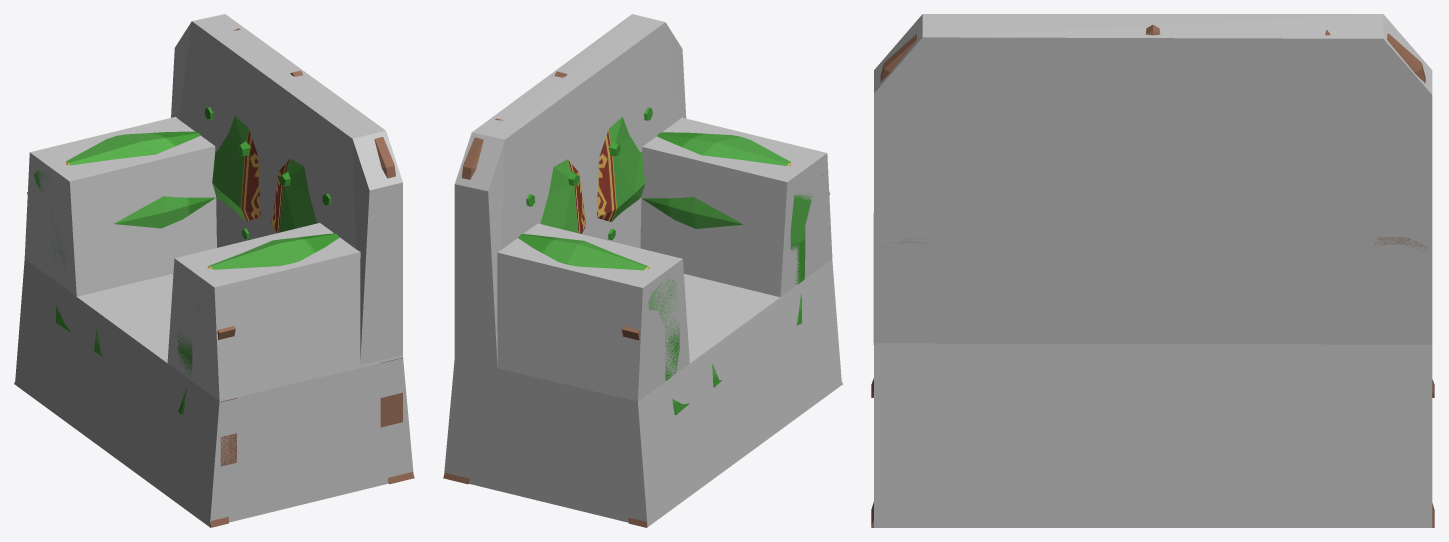
File: SM_Prop_Couch_01.fbx
3 renders of one model, left to right at view 1: azimuth 30°, elevation 25°; view 2: azimuth 150°, elevation 25°; view 3: azimuth 270°, elevation 25°, orthographic. The views are drawn at different scales.
Visible parts, largest first — view 1: SM_Prop_Couch_01_ConvexHulls, SM_Prop_Couch_01; view 2: SM_Prop_Couch_01_ConvexHulls, SM_Prop_Couch_01; view 3: SM_Prop_Couch_01_ConvexHulls, SM_Prop_Couch_01.
Boxes of the visible parts, x1,y1,x2,y2 form: SM_Prop_Couch_01_ConvexHulls: [15, 14, 413, 526]; SM_Prop_Couch_01: [14, 28, 414, 527]; SM_Prop_Couch_01_ConvexHulls: [444, 14, 841, 526]; SM_Prop_Couch_01: [443, 71, 842, 527]; SM_Prop_Couch_01_ConvexHulls: [873, 14, 1432, 527]; SM_Prop_Couch_01: [871, 25, 1434, 527].
Bounding box in the file's own units: 85.83 × 143 × 136.
Materials: 2 (1 with a texture image).
